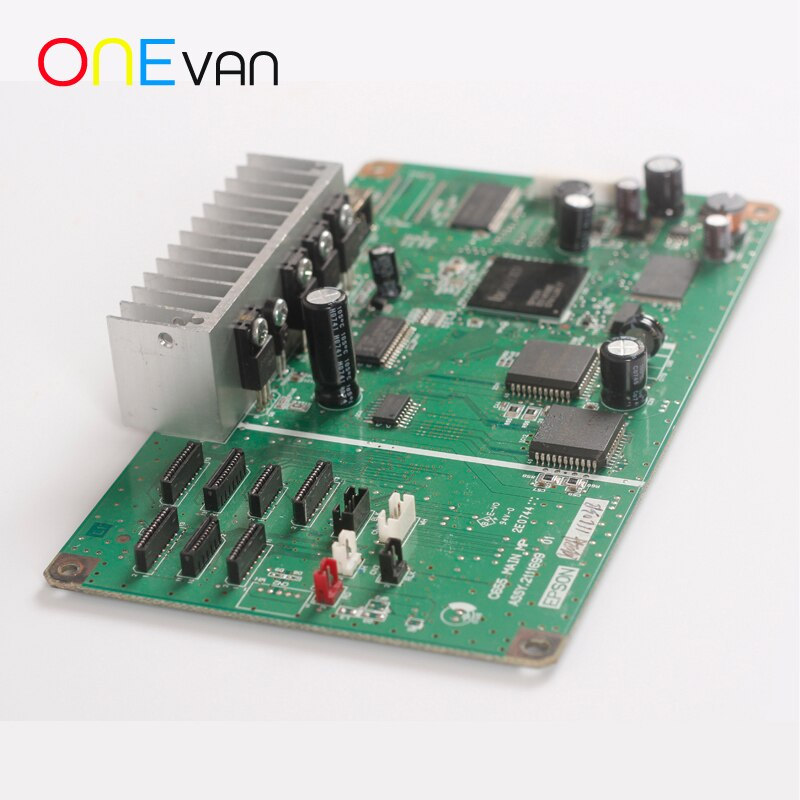capacitor: (283, 278, 379, 444), (588, 328, 663, 424), (552, 188, 605, 270), (636, 150, 694, 224)
